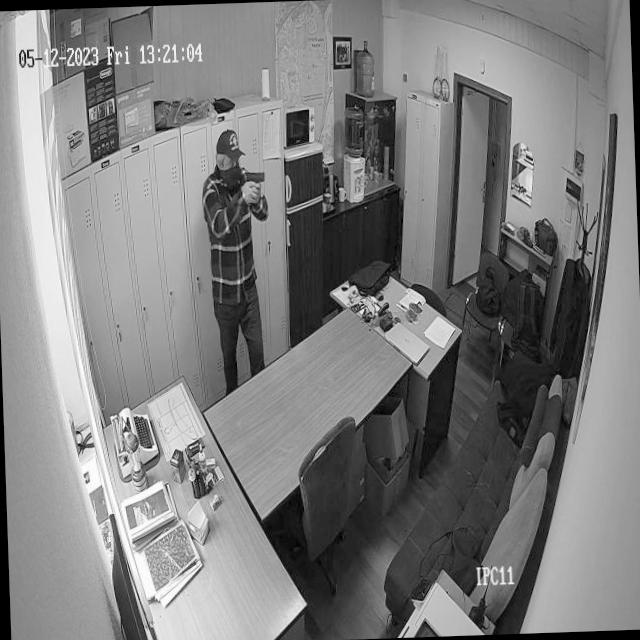gun: (243, 168, 266, 189)
person with a gun: (197, 126, 274, 356)
